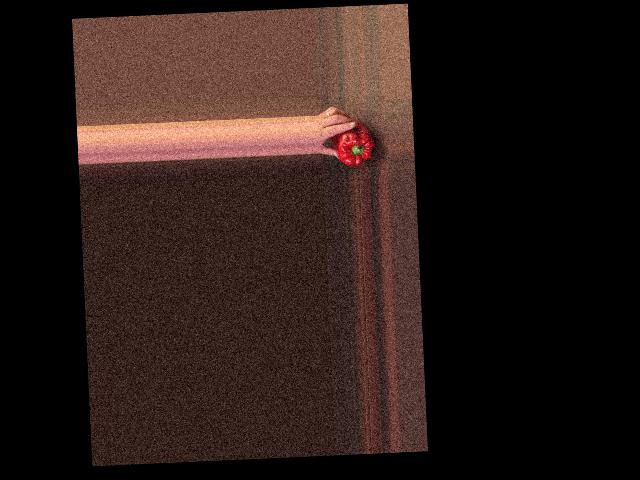bell_pepper: (332, 122, 376, 168)
